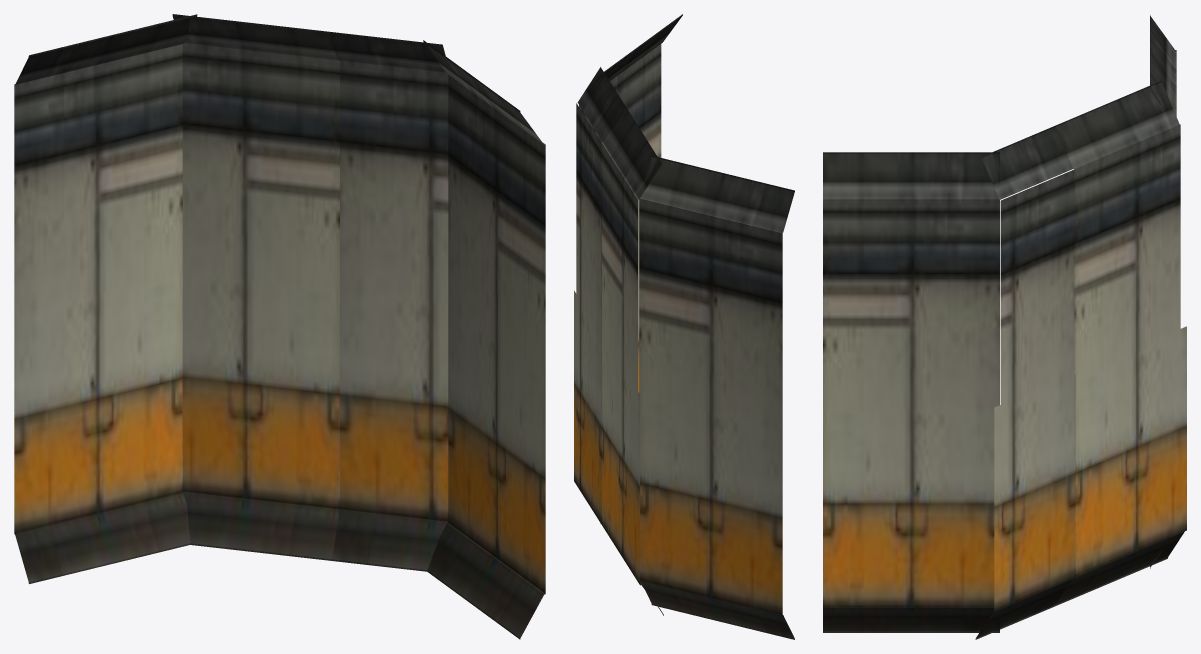
File: wall_curve.glb
The picture shows the model from 3 angles, left to right: view 1: azimuth 30°, elevation 25°; view 2: azimuth 150°, elevation 25°; view 3: azimuth 270°, elevation 25°; orthographic projection. The views are drawn at different scales.
Visible parts, largest first — view 1: WallCurve; view 2: WallCurve; view 3: WallCurve.
Part boxes in pixels (x1,y1,x2,y2): WallCurve: [14, 14, 545, 639]; WallCurve: [574, 14, 794, 639]; WallCurve: [823, 15, 1186, 639].
Size of the model in its own units: 4.1 by 6 by 4.12.
Materials: 1 (1 with a texture image).
